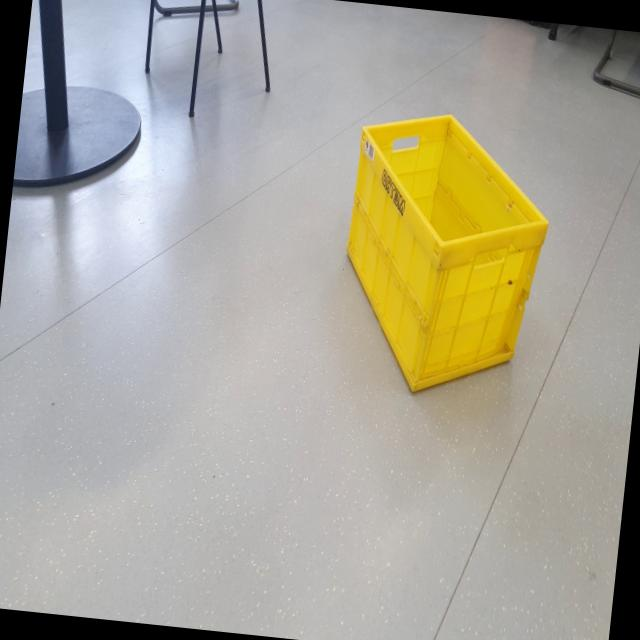box: (316, 86, 568, 423)
